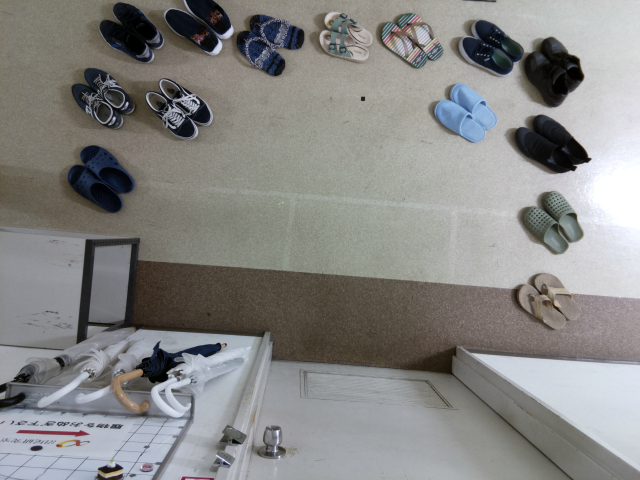Copy of Copy of Copy of Copy of Copy of Copy of Copy of Copy of Copy of Copy of: (64, 164, 129, 216), (78, 141, 137, 197), (155, 75, 216, 129), (145, 87, 198, 141), (164, 6, 222, 55), (233, 27, 288, 78), (68, 80, 123, 131), (82, 66, 136, 117), (110, 1, 165, 51), (96, 17, 154, 64), (392, 10, 444, 62), (448, 81, 499, 134), (431, 97, 485, 145), (380, 18, 427, 70), (248, 12, 308, 52), (321, 8, 374, 51), (317, 26, 373, 64), (183, 1, 234, 40)
Copy of Copy of Copy of Copy of Copy of Copy of Copy of Copy of Copy of shoe: (453, 32, 517, 78)
Copy of Copy of Copy of Copy of Copy of Copy of Copy of Copy of shoe: (469, 16, 527, 64)
Copy of Copy of Copy of Copy of Copy of Copy of Copy of shoe: (536, 36, 586, 95)
Copy of Copy of Copy of Copy of Copy of Copy of shoe: (521, 50, 571, 108)
Copy of Copy of Copy of Copy of Copy of shoe: (528, 113, 593, 165)
Copy of Copy of Copy of Copy of shoe: (510, 119, 575, 172)
Copy of Copy of Copy of shoe: (536, 188, 584, 243)
Copy of Copy of shoe: (518, 203, 567, 257)
Copy of shoe: (529, 272, 583, 325)
shoe: (514, 279, 568, 332)
